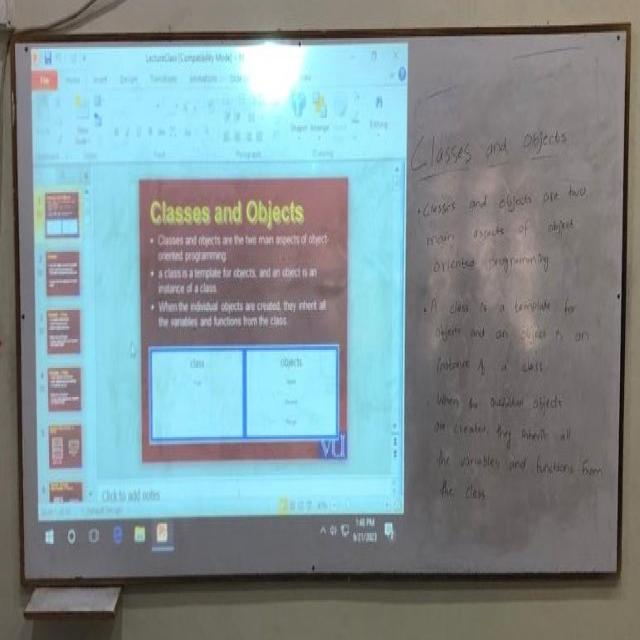Slide: (32, 38, 407, 553)
White-board: (10, 25, 631, 580)
